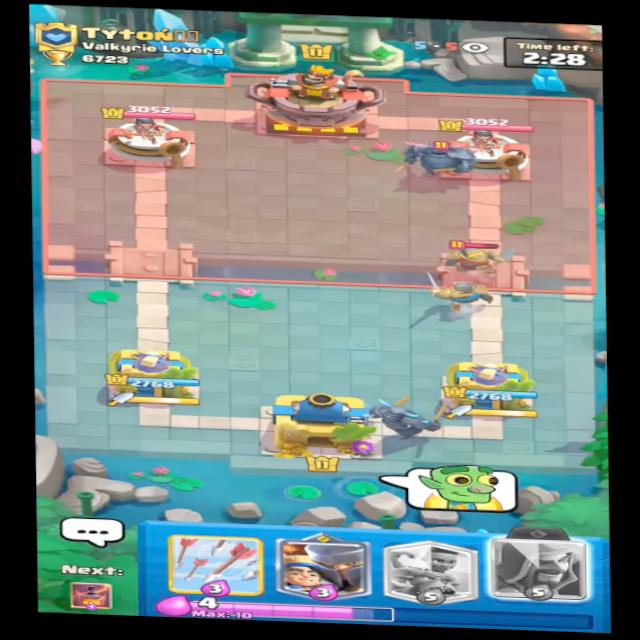Knight: (442, 232, 521, 274)
Pekka: (393, 134, 480, 179)
